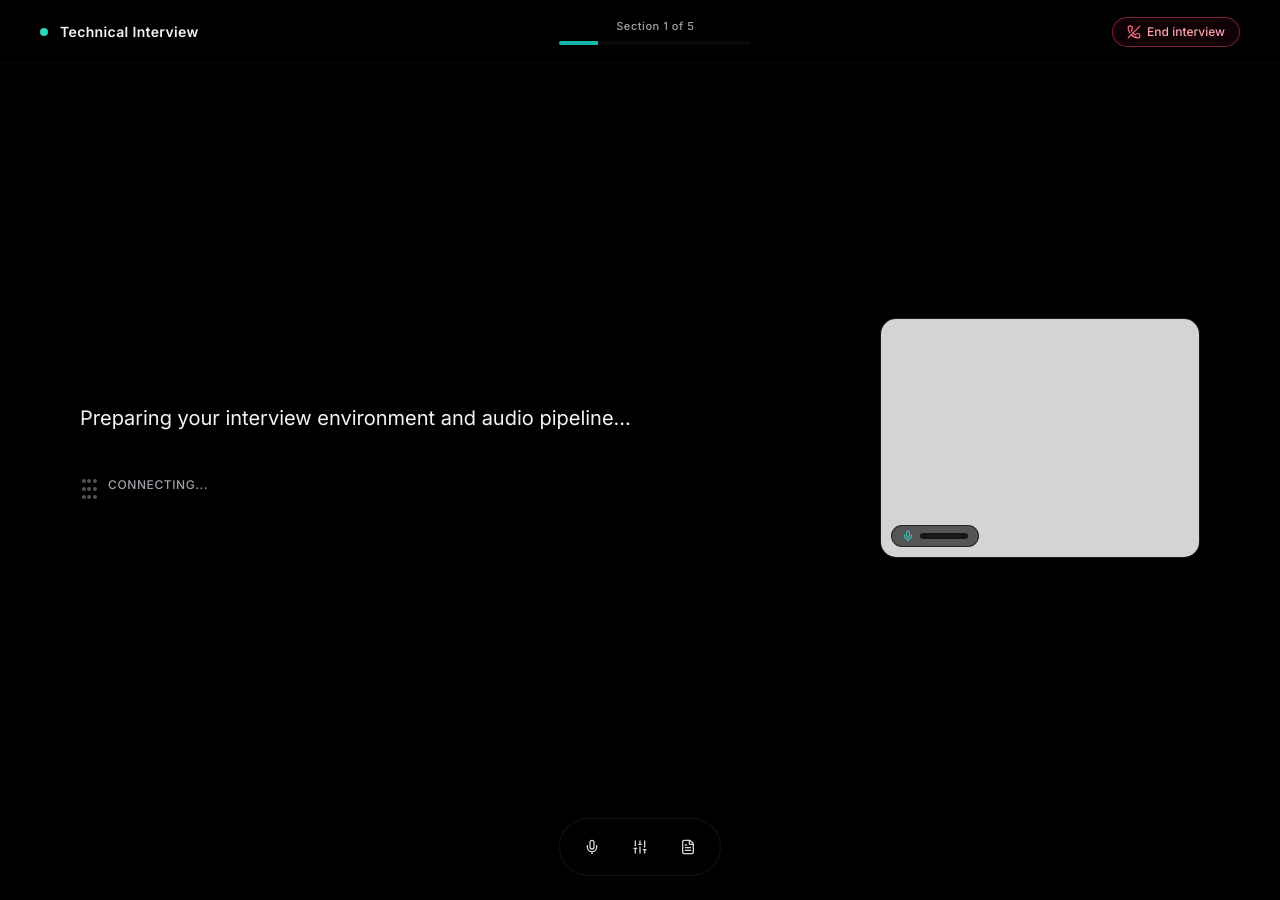
it: LiveInterviewRoom Component › toggles microphone mute and displays muted banner
This screenshot has width=1280, height=900.
# Toggle Mute On
Click the button with test id "pill-mic-toggle": (592,847) [572,827,612,867]
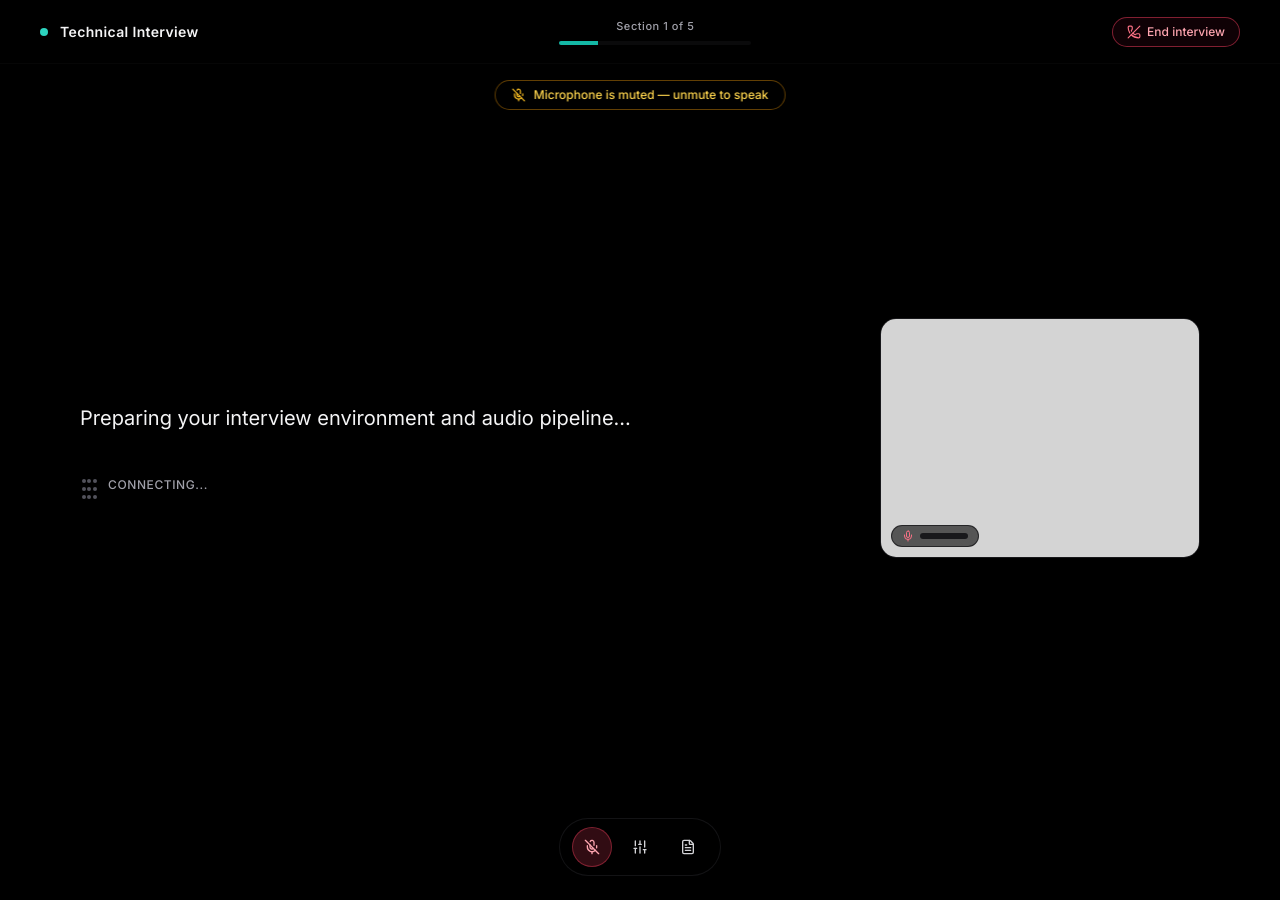
Result: the element with test id "muted-banner" is shown at [495,80,785,110]
Result: the text "Microphone is muted — unmute to speak" is shown at [534,87,768,103]
# Toggle Mute Off
Click the button with test id "pill-mic-toggle": (592,847) [572,827,612,867]
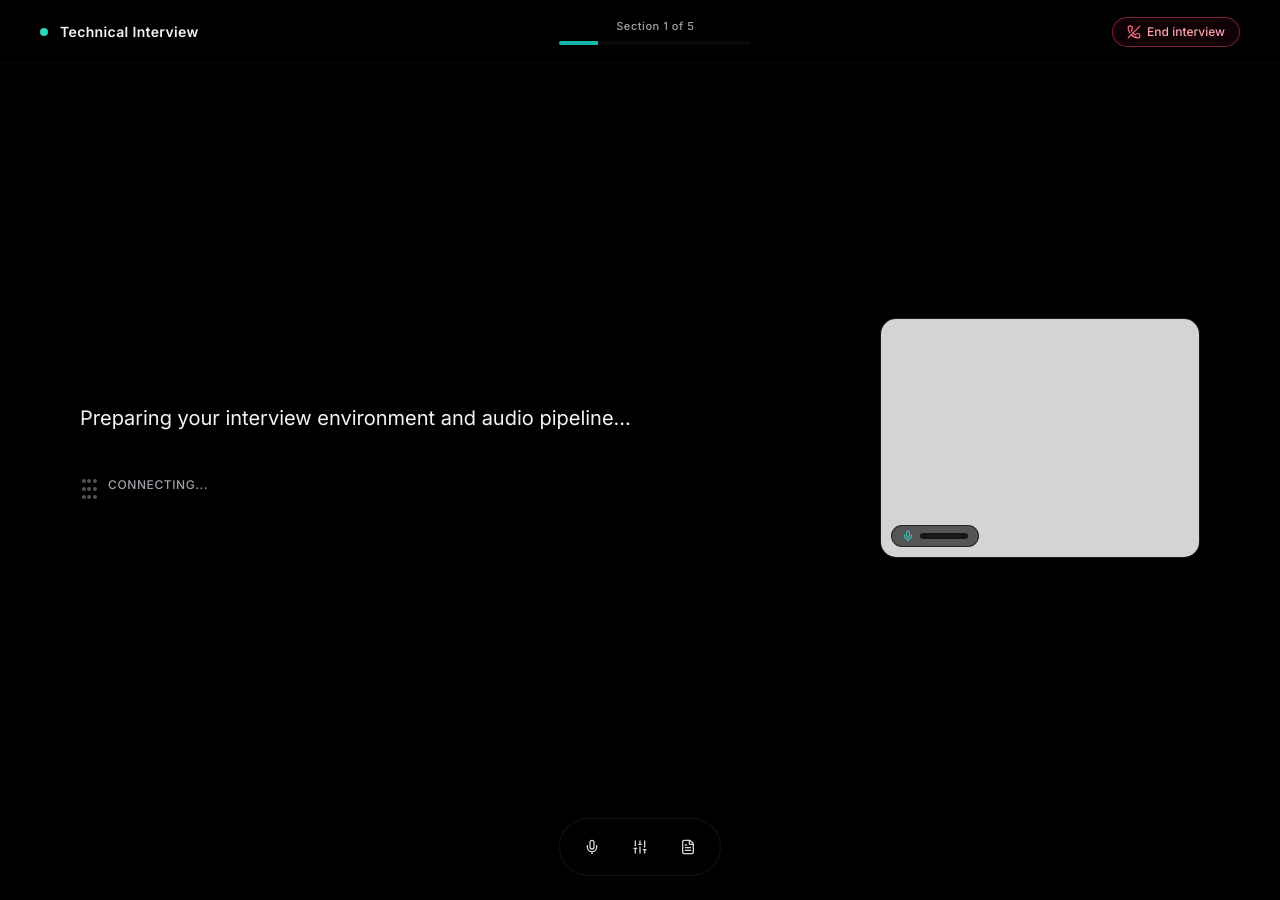
Result: the element with test id "muted-banner" is gone
